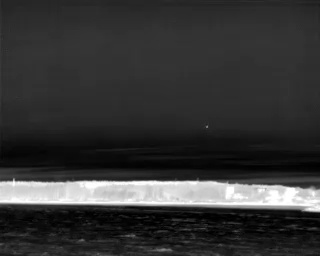HELICOPTER: (204, 123, 210, 131)
